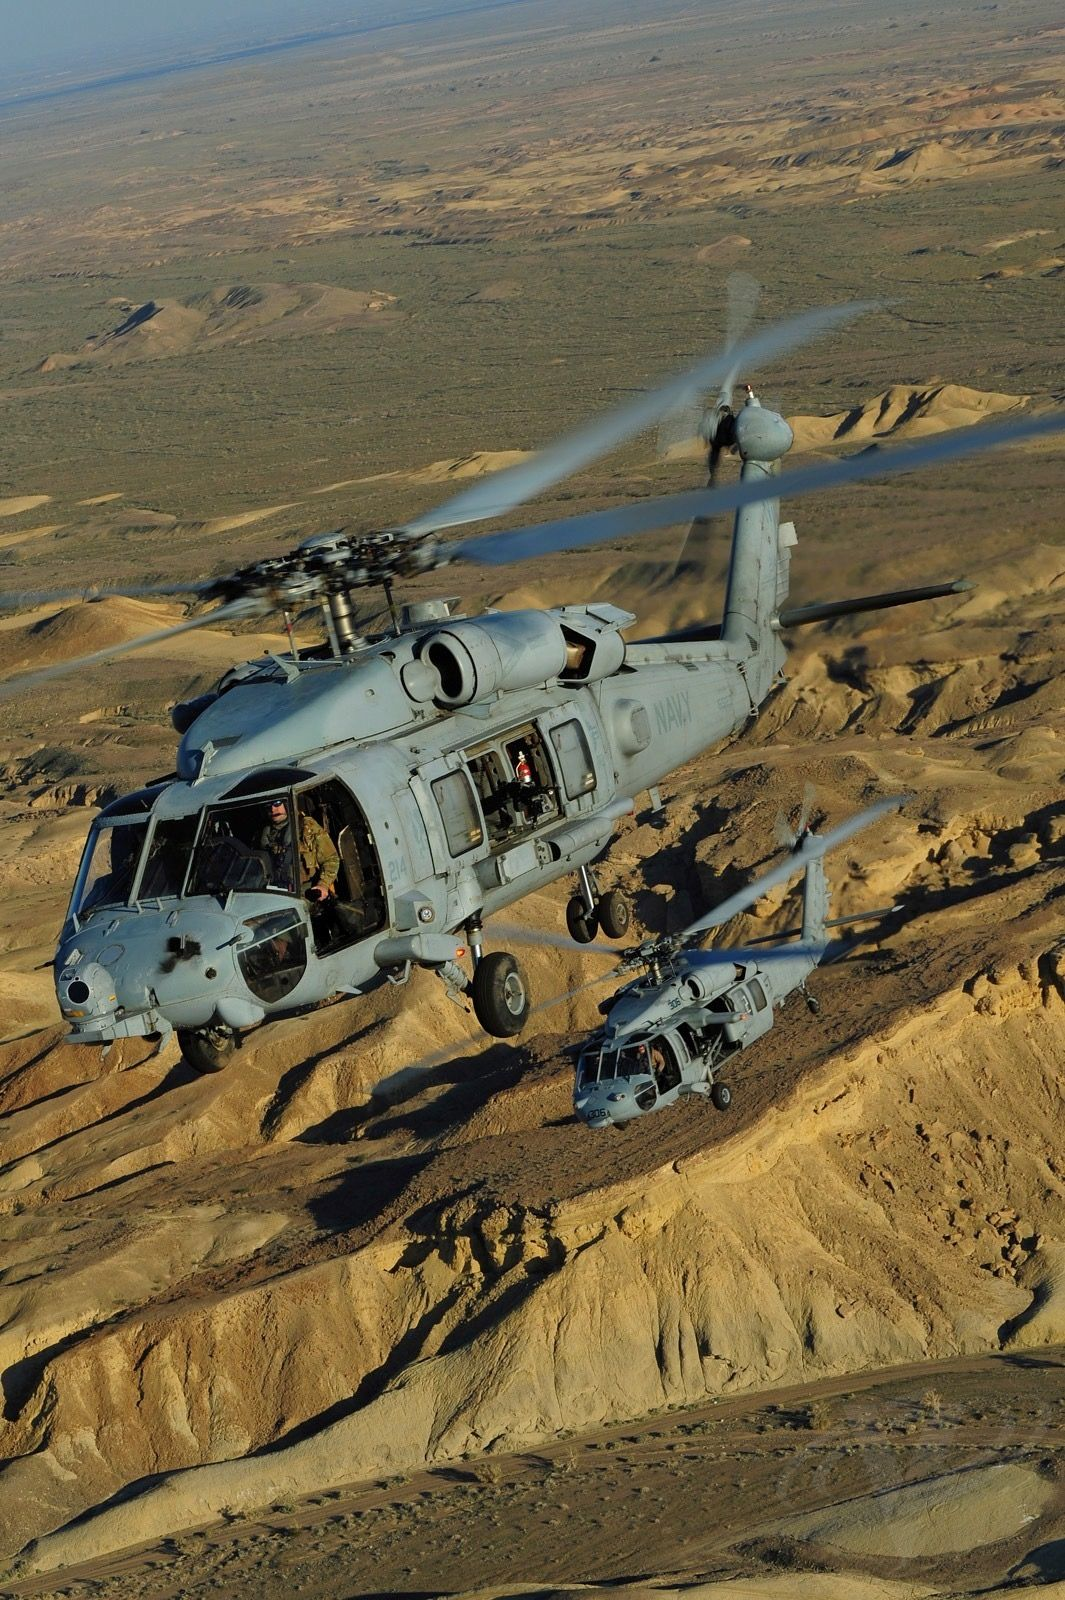Aeronef_militaire: (6, 259, 1065, 1064), (450, 771, 931, 1132)
